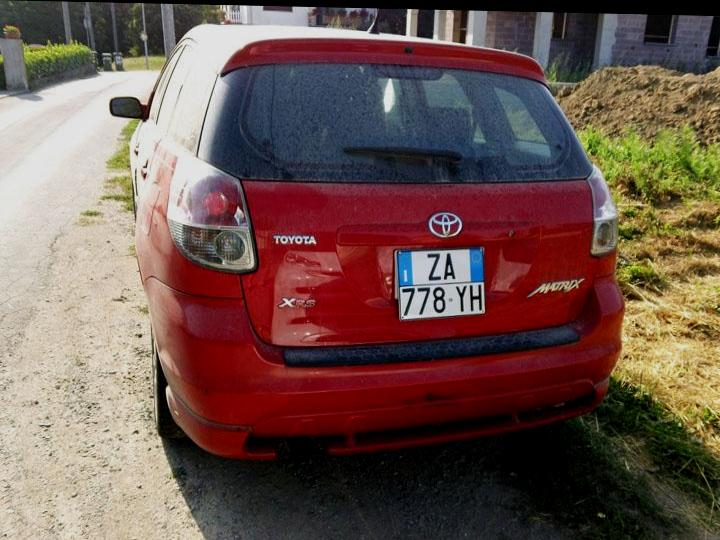License_Plate: (396, 242, 488, 326)
